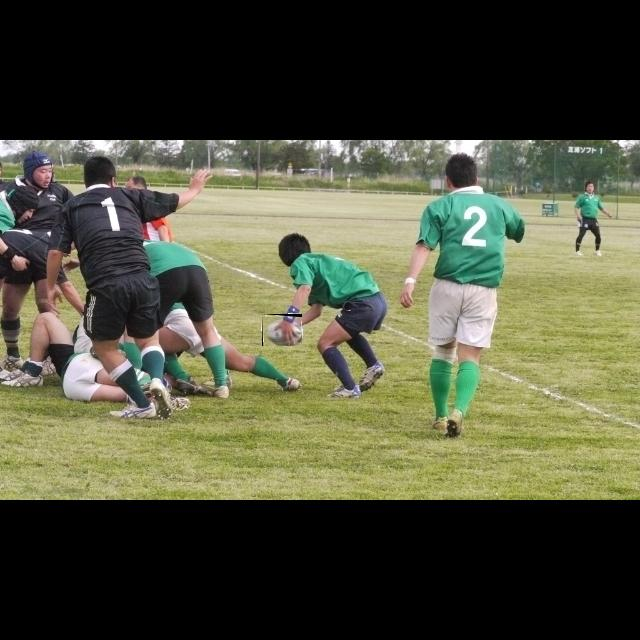Football: (262, 314, 302, 346)
